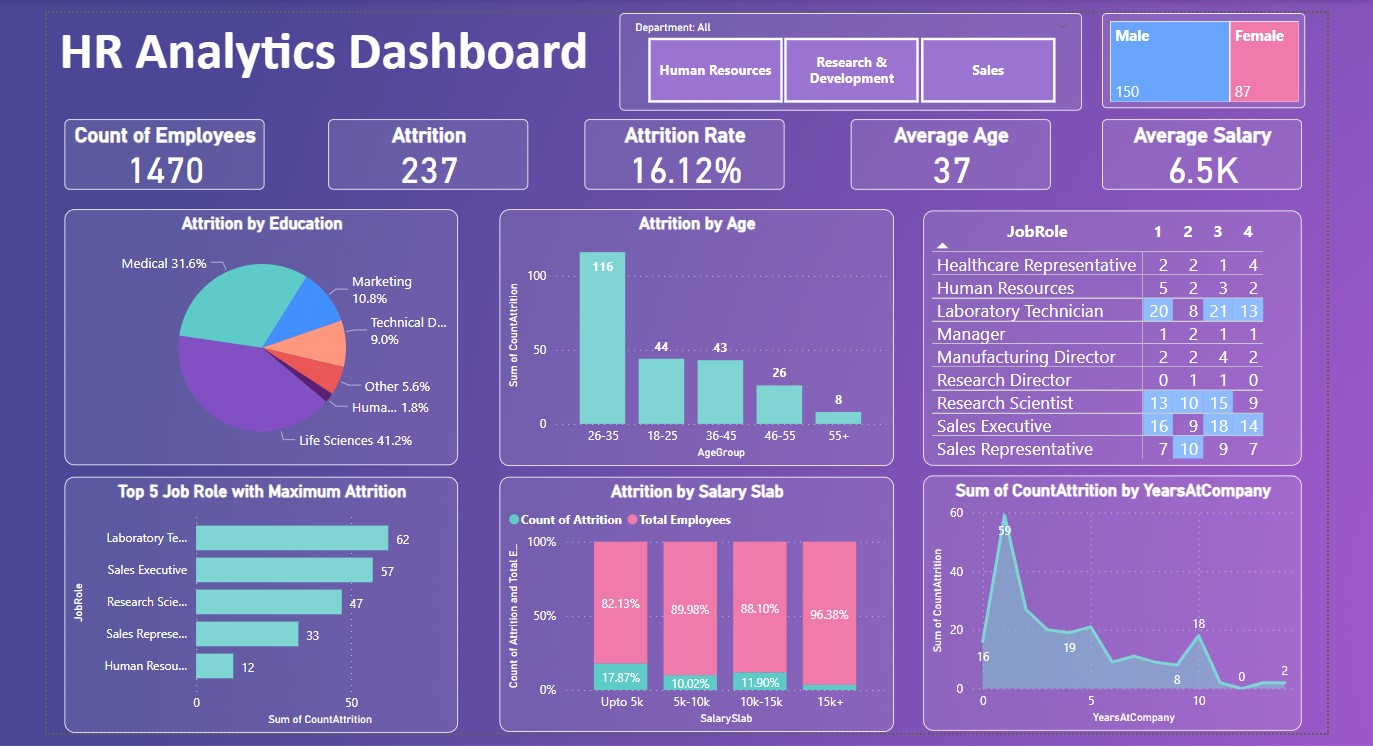

The page's visual inventory and layout, read from the dashboard file:
{"tool":"powerbi","page":{"name":"HR Analytics Dashboard","canvas":[1280,720],"ordinal":0},"visuals":[{"type":"card","title":"Count of Employees","fields":{"Values":["CountNonNull(HR_Analytics.EmpID)"]},"box":[17.5,106.2,200,70],"z":0},{"type":"card","title":"Attrition","fields":{"Values":["Sum(HR_Analytics.CountAttrition)"]},"box":[281.2,106.2,200,70],"z":1000},{"type":"card","title":"Average Age","fields":{"Values":["Avg(HR_Analytics.Age)"]},"box":[803.8,106.2,200,70],"z":2000},{"type":"card","title":"Attrition Rate","fields":{"Values":["HR_Analytics.AttritionRate"]},"box":[537.1,106.6,200,70],"z":3000},{"type":"card","title":"Average Salary","fields":{"Values":["Avg(HR_Analytics.MonthlyIncome)"]},"box":[1054.5,106.6,200,70],"z":4000},{"type":"pieChart","title":"Attrition by Education","fields":{"Category":["HR_Analytics.EducationField"],"Y":["CountNonNull(HR_Analytics.Attrition)"]},"box":[17.5,196.2,393.8,256.2],"z":5000},{"type":"columnChart","title":"Attrition by Age","fields":{"Category":["HR_Analytics.AgeGroup"],"Y":["Sum(HR_Analytics.CountAttrition)"]},"box":[452.9,196.3,394,256.6],"z":6000},{"type":"pivotTable","fields":{"Rows":["HR_Analytics.JobRole"],"Columns":["HR_Analytics.JobSatisfaction"],"Values":["Sum(HR_Analytics.CountAttrition)"]},"box":[876.2,197.5,378.8,255],"z":7000},{"type":"barChart","title":"Top 5 Job Role with Maximum Attrition","fields":{"Category":["HR_Analytics.JobRole"],"Y":["Sum(HR_Analytics.CountAttrition)"]},"box":[17.5,463.8,393.8,256.2],"z":8000},{"type":"hundredPercentStackedColumnChart","title":"Attrition by Salary Slab","fields":{"Category":["HR_Analytics.SalarySlab"],"Y":["Sum(HR_Analytics.CountAttrition)","CountNonNull(HR_Analytics.EmpID)"]},"box":[452.9,464.2,394,255.2],"z":9000},{"type":"areaChart","fields":{"Category":["HR_Analytics.YearsAtCompany"],"Y":["Sum(HR_Analytics.CountAttrition)"]},"box":[876.2,462.5,378.8,255],"z":10000},{"type":"treemap","fields":{"Group":["HR_Analytics.Gender"],"Values":["Sum(HR_Analytics.CountAttrition)"]},"box":[1054.5,0,203.3,95.4],"z":11000},{"type":"slicer","fields":{"Values":["HR_Analytics.Department"]},"box":[572.5,0,462.5,97.5],"z":12000},{"type":"textbox","box":[7.5,0,547.5,95],"z":13000}]}

Visuals, with their boxes in screenshot pixels (x1, y1, x2, y2):
"Count of Employees" card: (71,137,268,206)
"Attrition" card: (331,137,529,206)
"Average Age" card: (847,137,1045,206)
"Attrition Rate" card: (584,137,781,207)
"Average Salary" card: (1095,137,1292,207)
"Attrition by Education" pieChart: (71,226,460,479)
"Attrition by Age" columnChart: (501,226,890,479)
pivotTable - HR_Analytics.JobRole x HR_Analytics.JobSatisfaction: (919,227,1293,479)
"Top 5 Job Role with Maximum Attrition" barChart: (71,490,460,743)
"Attrition by Salary Slab" hundredPercentStackedColumnChart: (501,490,890,742)
areaChart - HR_Analytics.YearsAtCompany x Sum(HR_Analytics.CountAttrition): (919,489,1293,741)
treemap - HR_Analytics.Gender x Sum(HR_Analytics.CountAttrition): (1095,32,1295,126)
slicer - HR_Analytics.Department: (619,32,1075,128)
textbox: (61,32,602,126)
